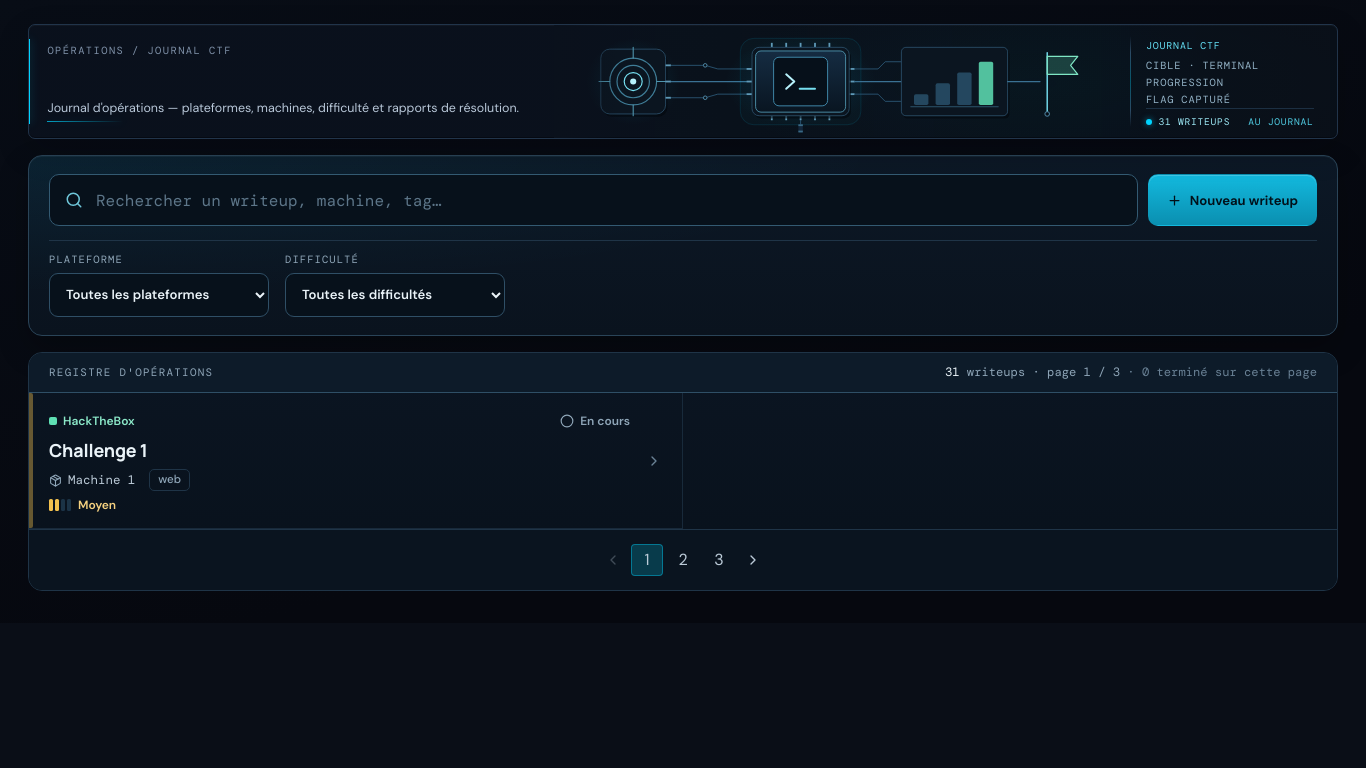
Test: CTF 2026 — liste › utilise le contrat de pagination du backend, navigue jusqu’à la dernière page et revient en page 1 avec les filtres
Expected: the link "Challenge 1" is shown, [49, 438, 148, 462]
Expected: the text with class "ct26-page-note" shows "0 terminé", [1120, 364, 1317, 380]
Click the button "2".
click(683, 560)  # box [667, 544, 699, 576]
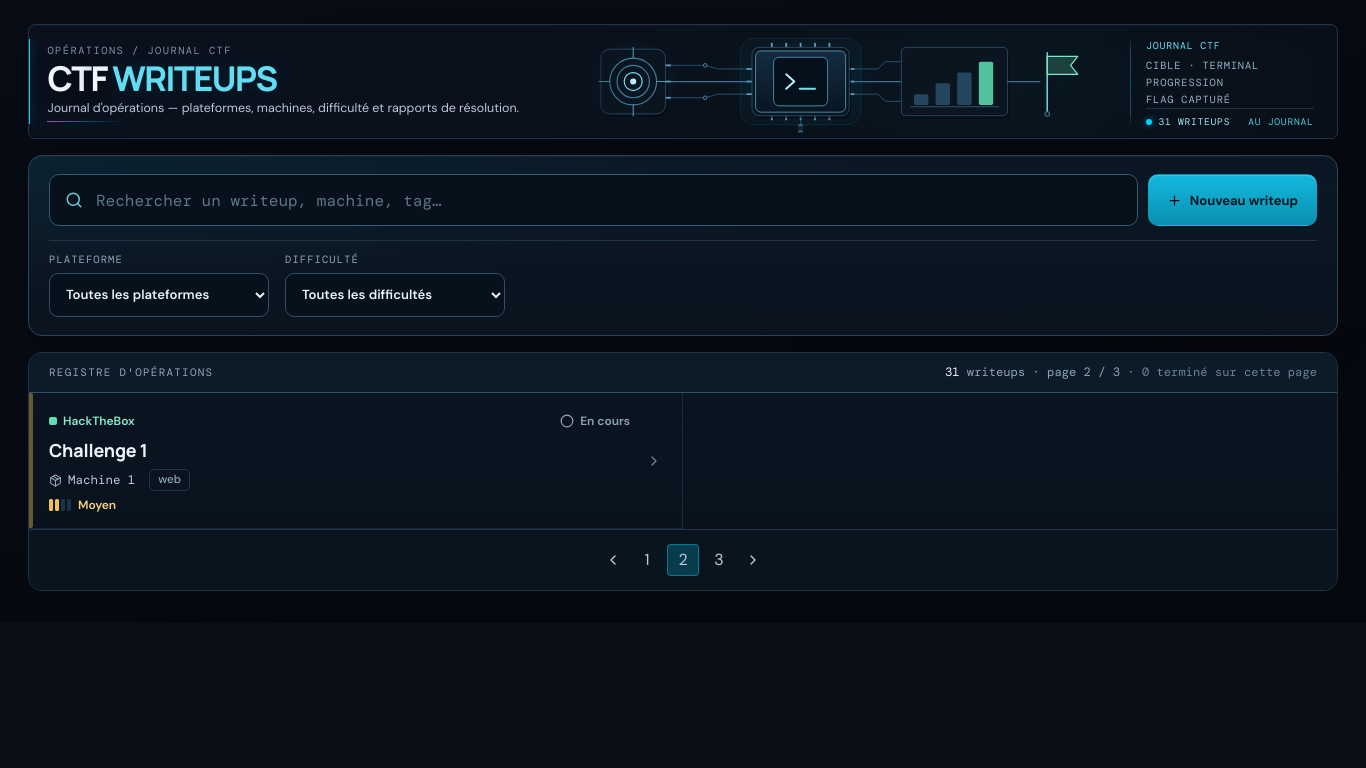
Click the button "3".
click(719, 560)  # box [703, 544, 735, 576]
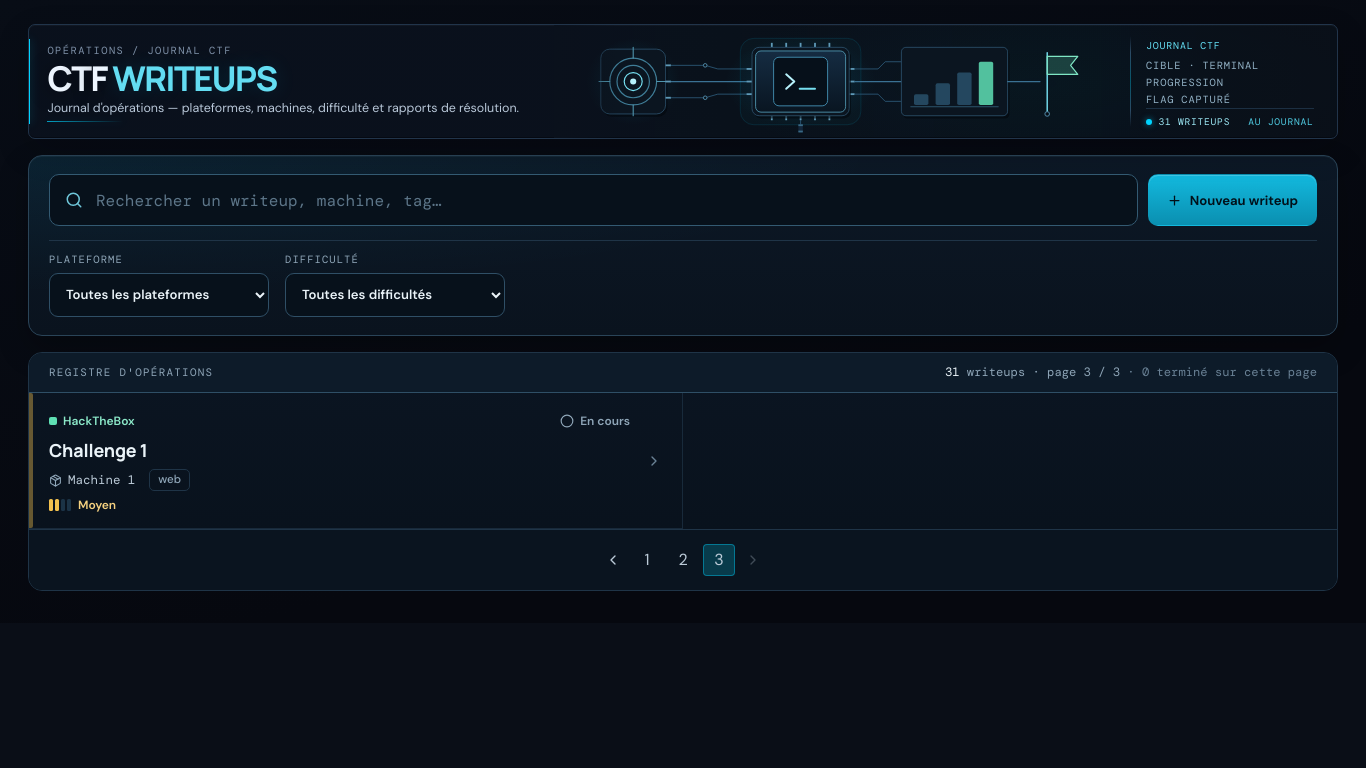
Select "TryHackMe" in the dropdown labelled "Plateforme" at [159, 295], box [49, 273, 269, 317]
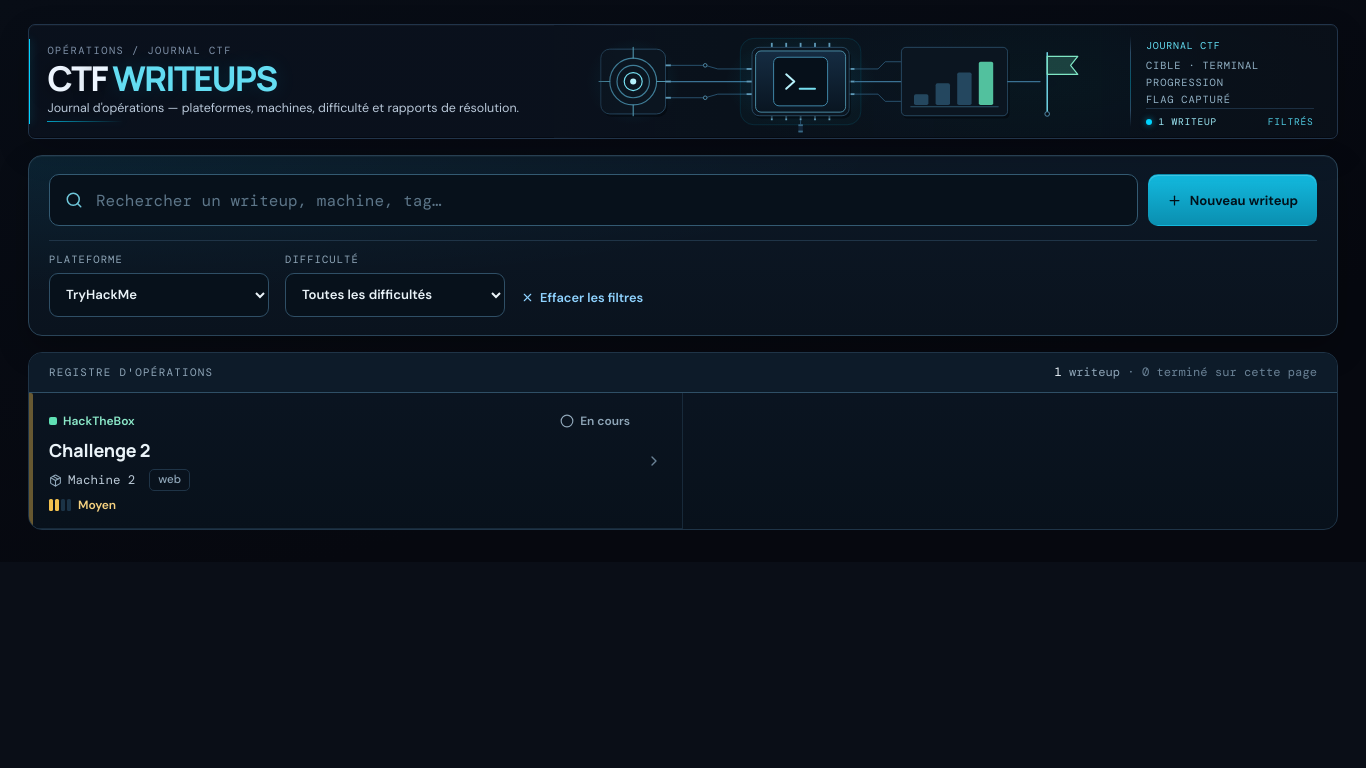
Now the button "3" is gone
